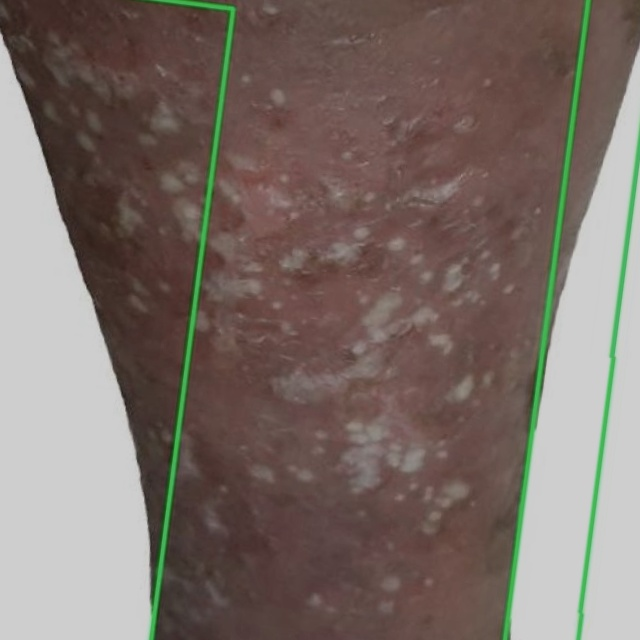Eczema: (0, 0, 639, 639), (0, 0, 233, 639)
